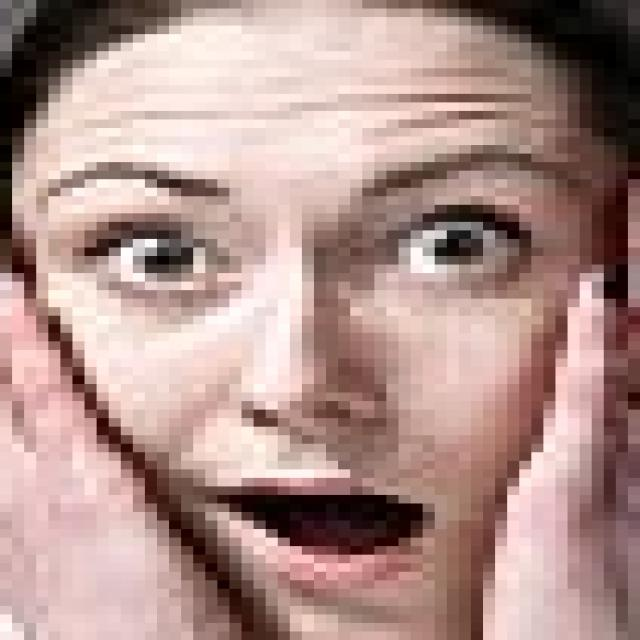Anxiety: (12, 0, 638, 631)
